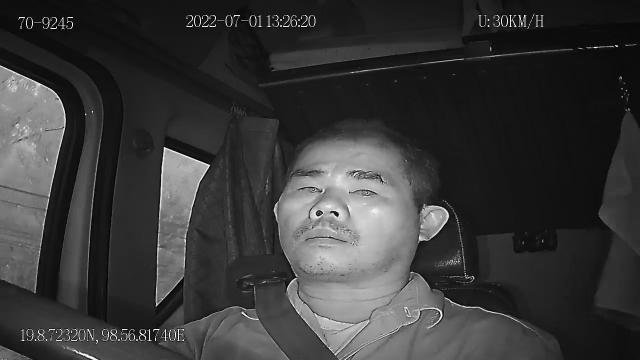SafeDriving: (340, 172, 390, 203), (288, 174, 328, 202)
Seatbelt: (251, 280, 347, 360)
